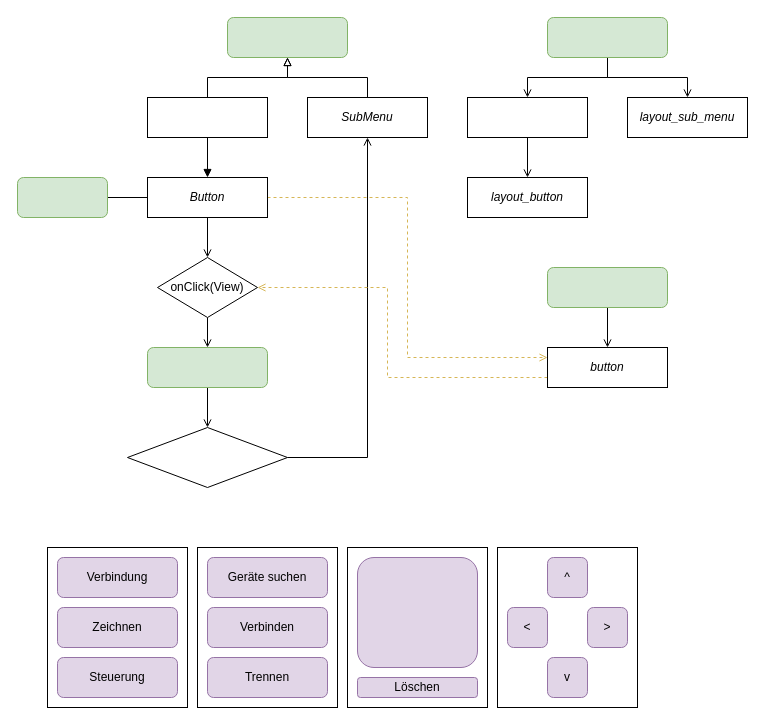
This 765x725 diagram has some shape labels left out. The box of each missing label's shape, as (x1, y1, x2, y2) in pixels:
Activity: (226, 16, 348, 58)
Fläche zum Zeichnen: (356, 556, 478, 668)
Intent: (146, 346, 268, 388)
layout_main_menu: (466, 96, 588, 138)
Listener: (16, 176, 108, 218)
MainMenu: (146, 96, 268, 138)
R.id: (546, 266, 668, 308)
R.layout: (546, 16, 668, 58)
startActivity(Intent): (126, 426, 288, 488)
